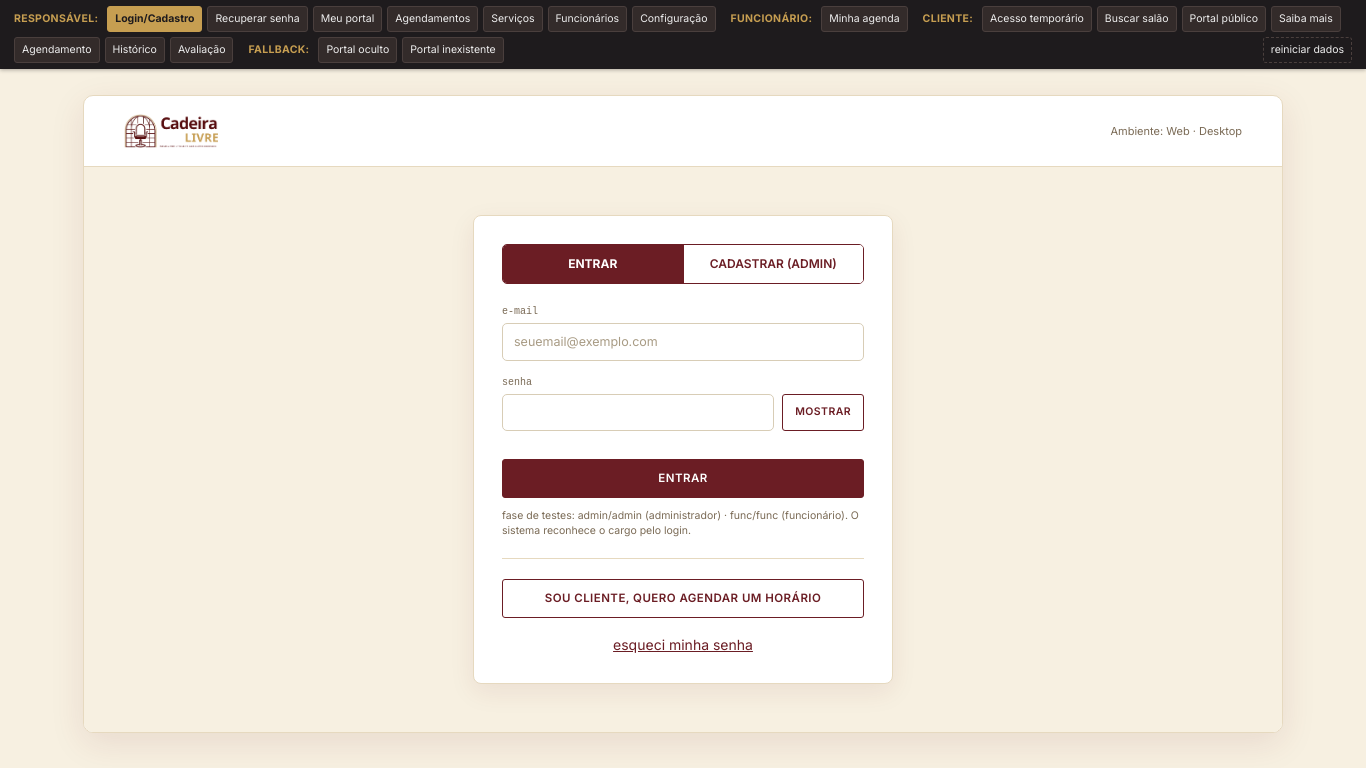
Test: login › mostra erro com senha errada
Type "admin" into the field labelled "e-mail" at (683, 342), box [502, 323, 864, 360]
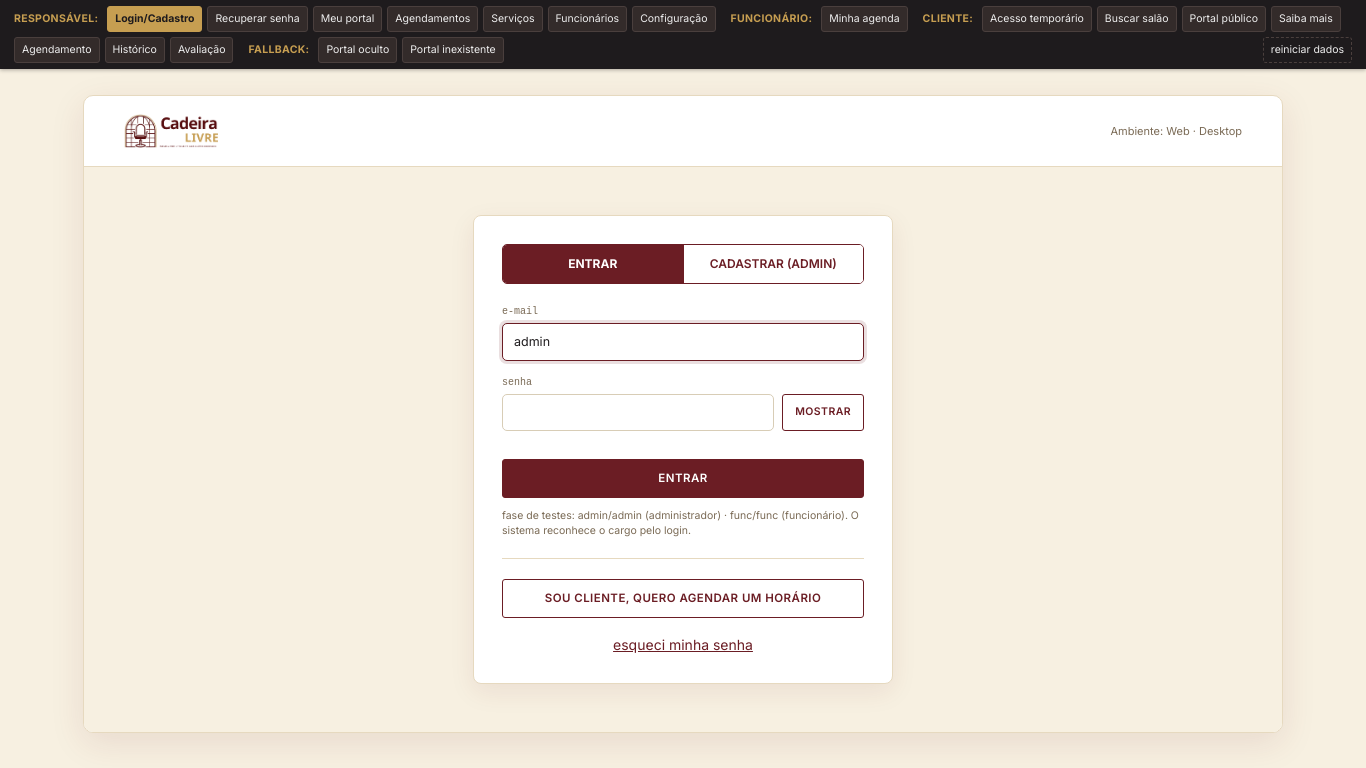
Type "errada" into the password field labelled "senha" at (638, 412), box [502, 394, 774, 431]
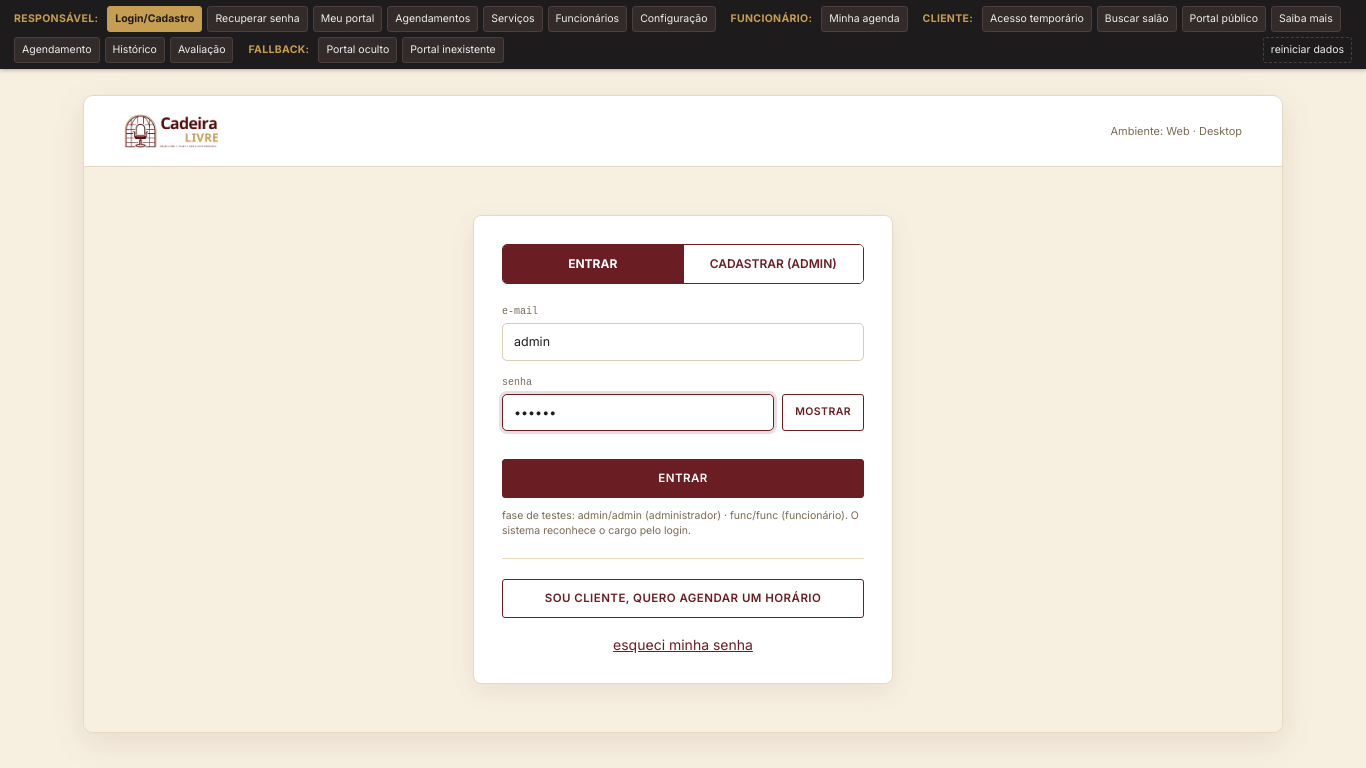
Click the button "Entrar" at (683, 478), box [502, 459, 864, 498]
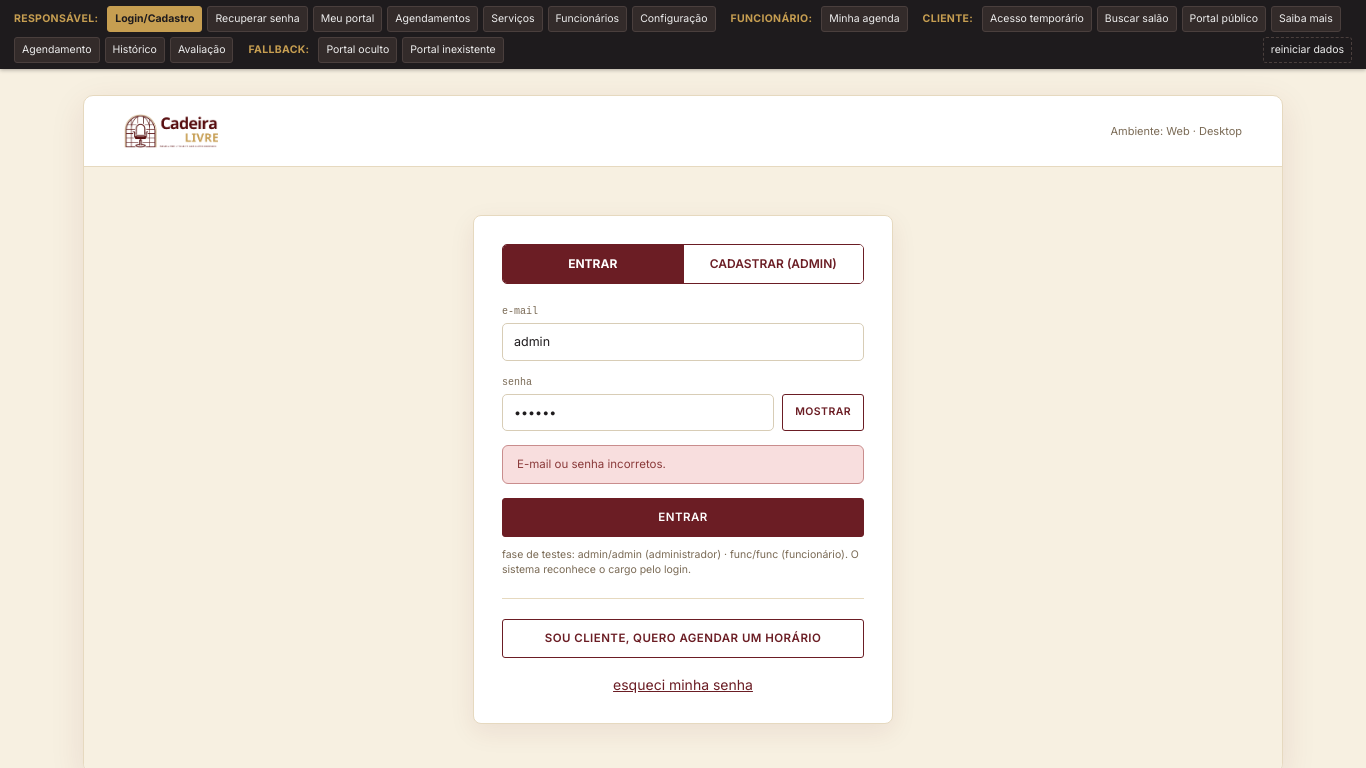
Expected: the message shows "incorretos", [517, 457, 666, 471]
